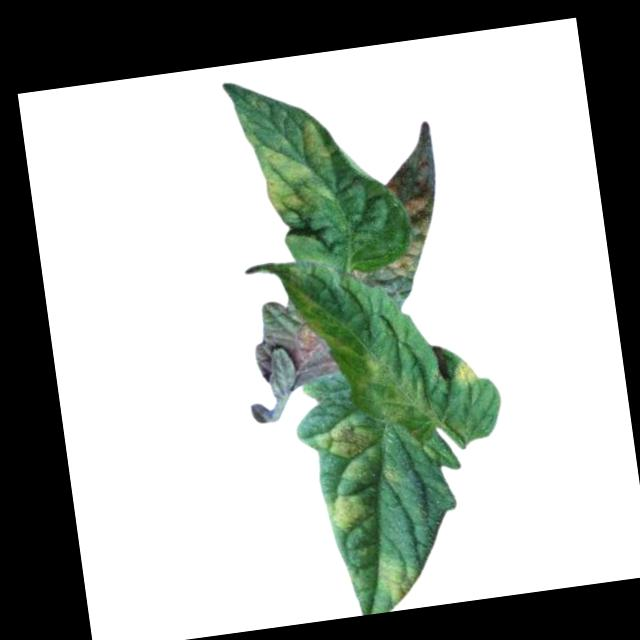Leaf_Mold: (246, 115, 342, 222), (381, 120, 447, 240), (250, 307, 341, 394), (349, 240, 432, 301), (313, 412, 378, 461), (376, 552, 424, 609), (320, 489, 374, 533), (450, 353, 482, 385)
